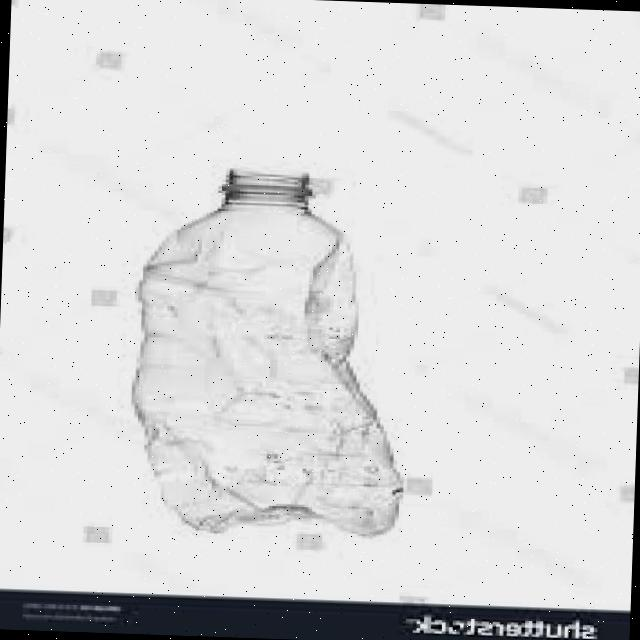bottle: (96, 143, 422, 547)
